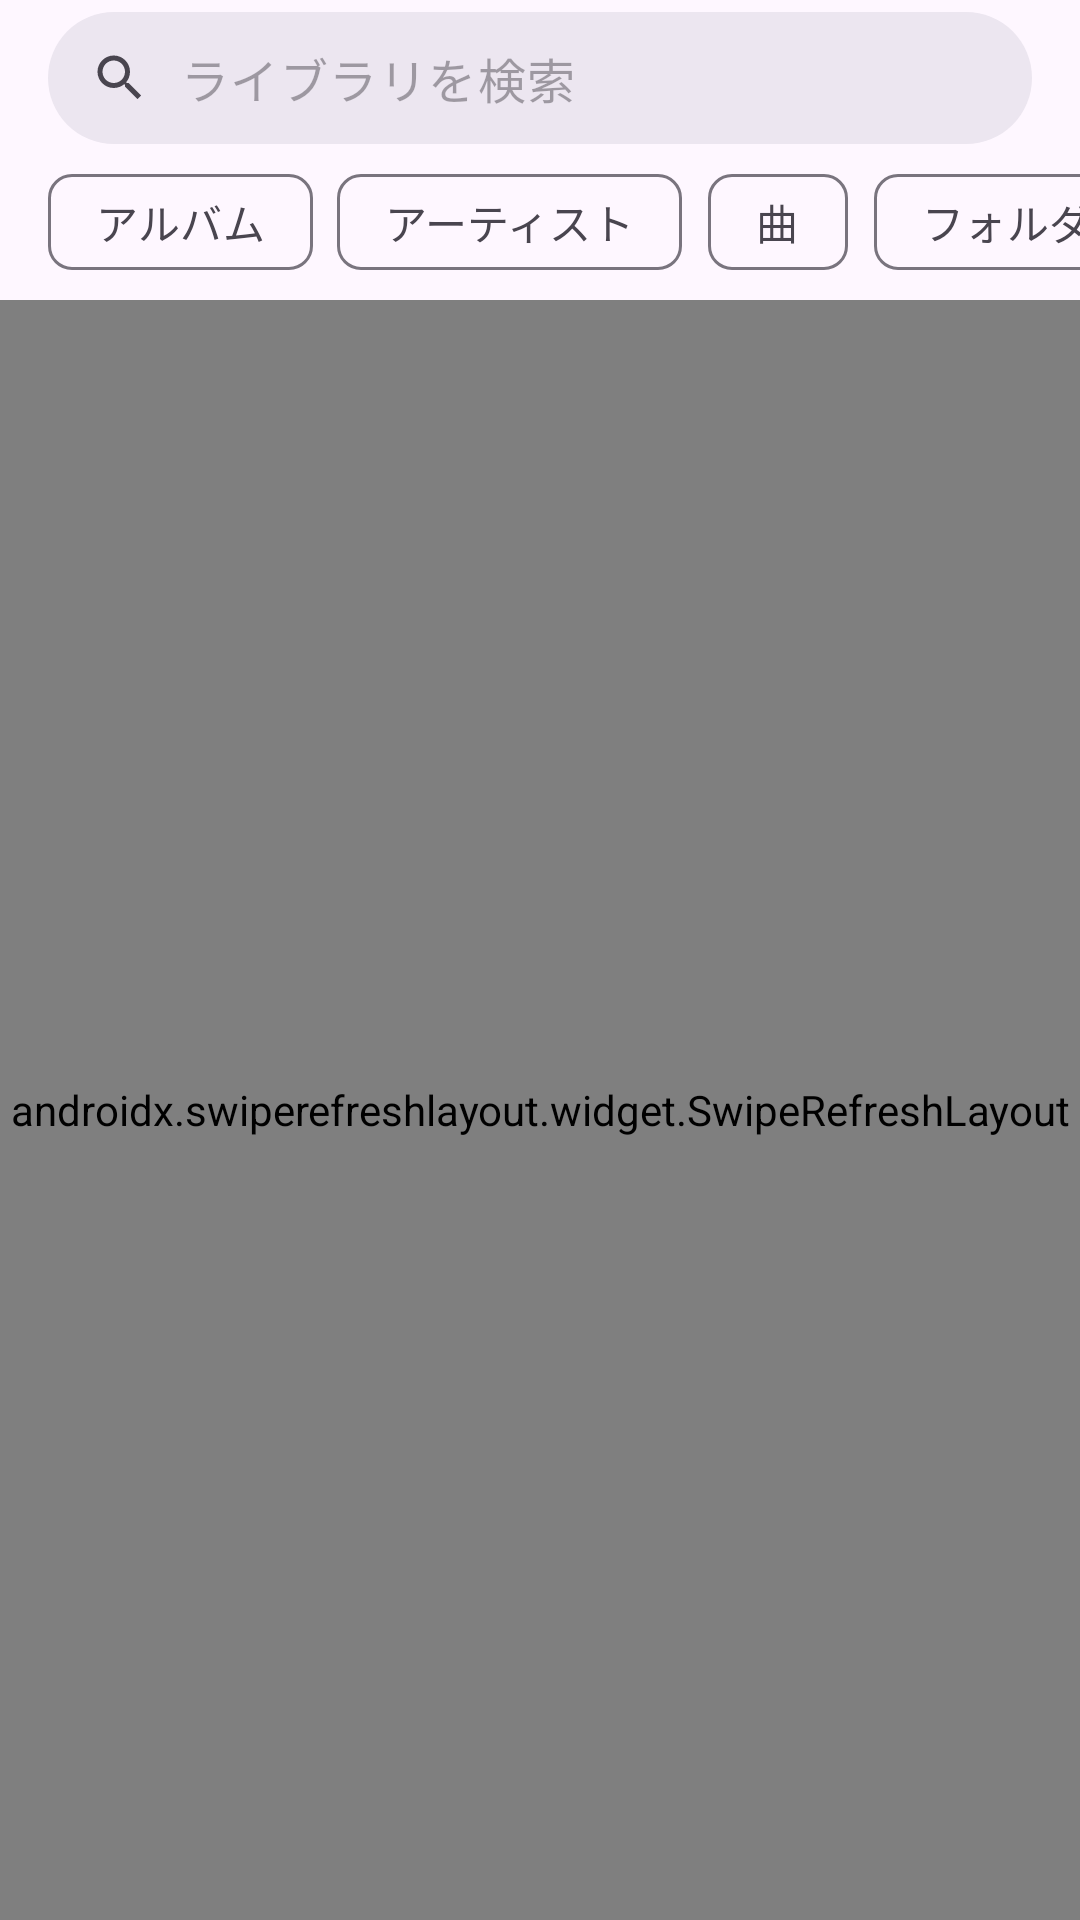

Where to tap for icons on this 1080x1920 app screen, as (x,y):
search: (119,77)
